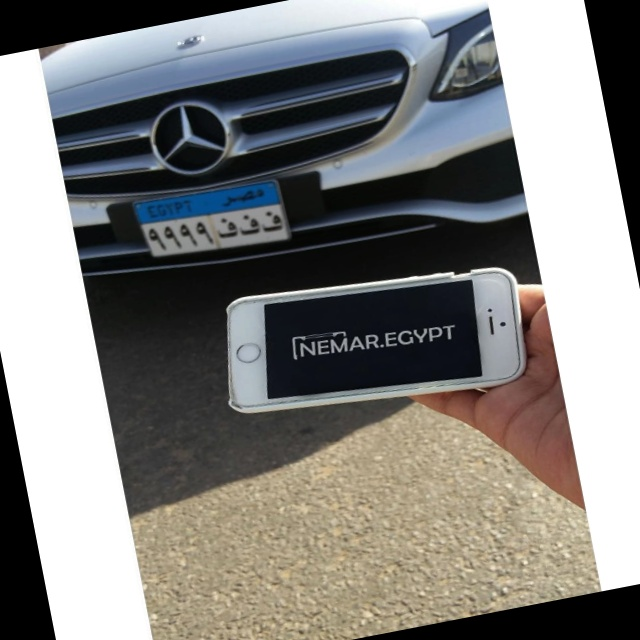License Plate: (127, 170, 297, 272)
